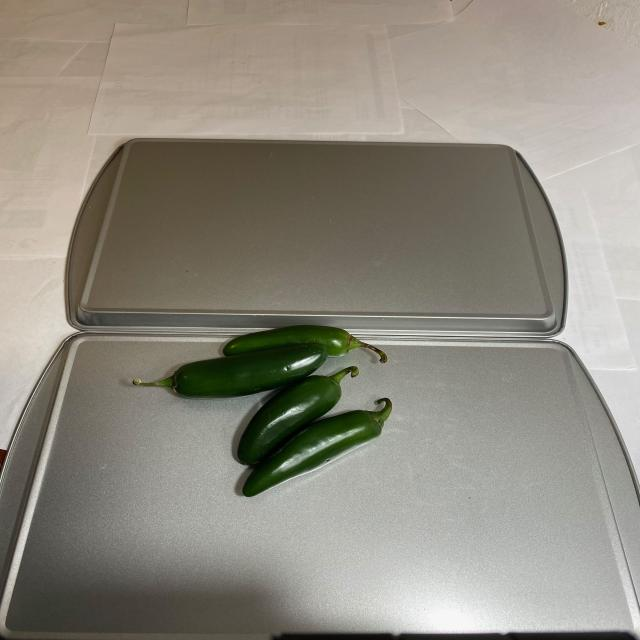chilli: (121, 322, 414, 500)
